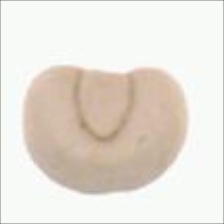L5: (72, 65, 143, 145), (61, 179, 155, 206)
L6: (19, 62, 191, 199)
